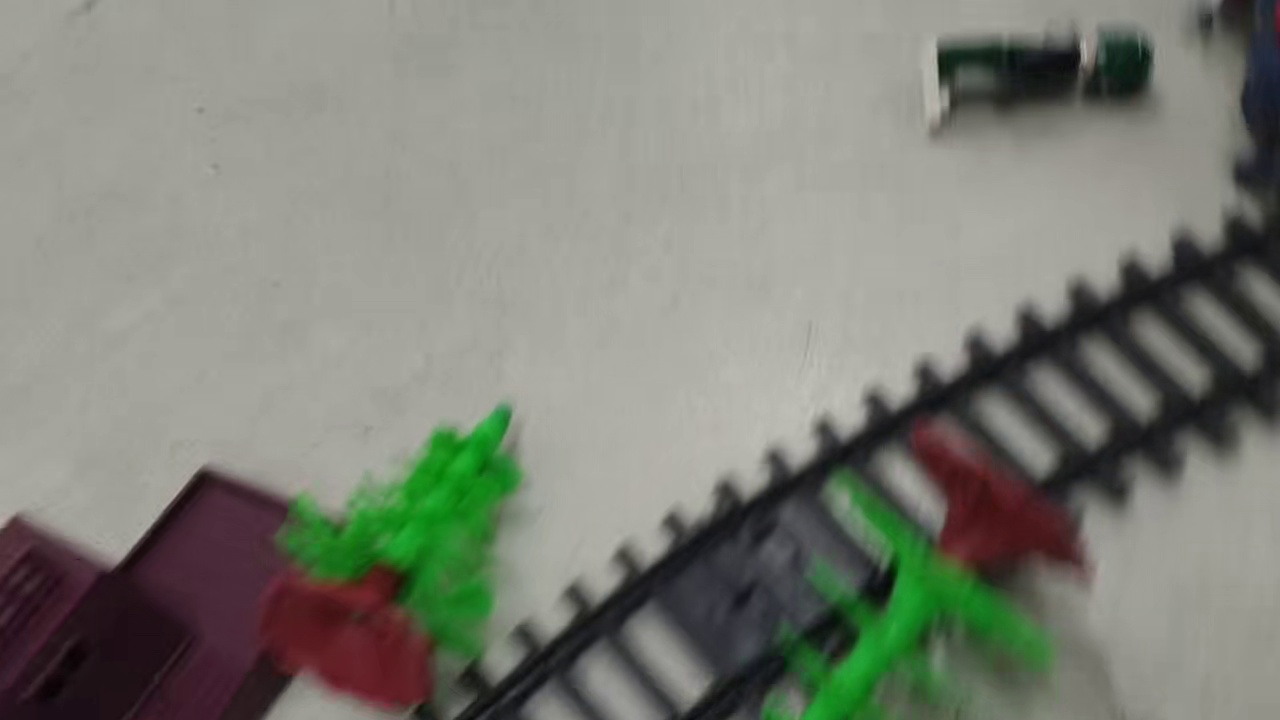people: (921, 25, 1156, 130)
tree: (756, 433, 1092, 720), (256, 399, 525, 707)
